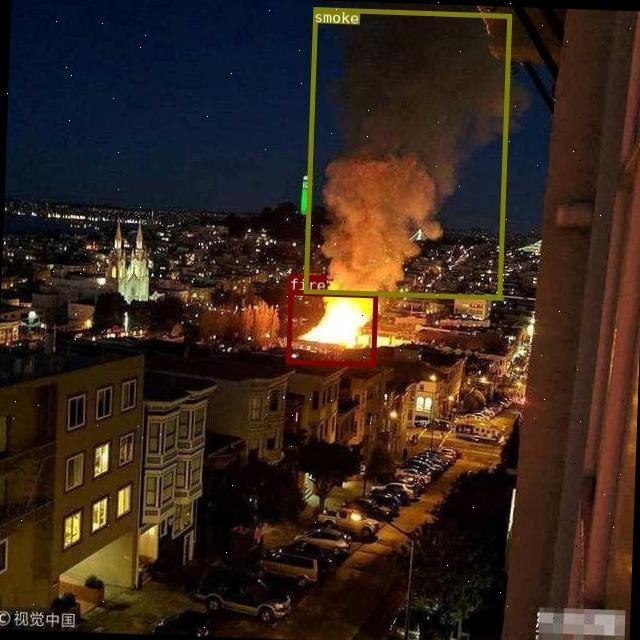fire: (285, 289, 377, 366)
smoke: (303, 7, 511, 298)
